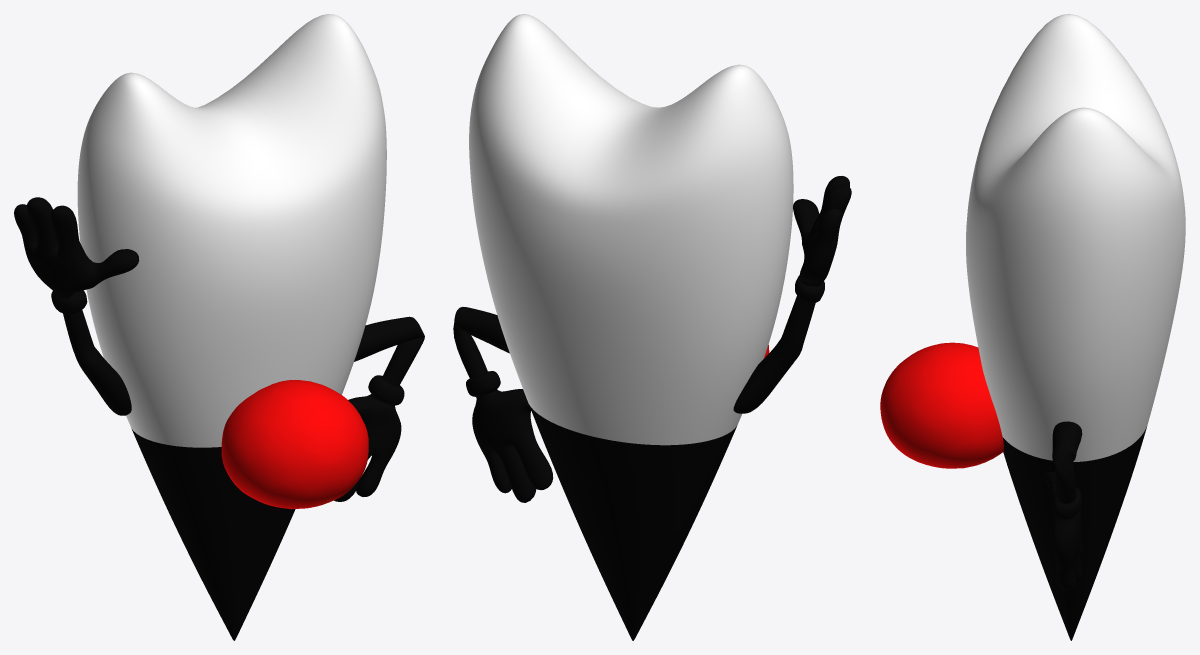
Rendered from dukewave2.obj.
3 renders of one model, left to right at view 1: azimuth 30°, elevation 25°; view 2: azimuth 150°, elevation 25°; view 3: azimuth 270°, elevation 25°, orthographic. The views are drawn at different scales.
Visible parts, largest first — view 1: javadude, javadude_hands, javadude_nase; view 2: javadude, javadude_hands; view 3: javadude, javadude_nase, javadude_hands.
Part boxes in pixels (x1=…): javadude: x1=77, y1=14, x2=386, y2=640; javadude_hands: x1=14, y1=197, x2=424, y2=501; javadude_nase: x1=221, y1=380, x2=368, y2=509; javadude: x1=469, y1=14, x2=793, y2=640; javadude_hands: x1=453, y1=176, x2=851, y2=502; javadude: x1=966, y1=14, x2=1185, y2=640; javadude_nase: x1=880, y1=342, x2=1003, y2=468; javadude_hands: x1=1043, y1=421, x2=1082, y2=590.
Size of the model in its own units: 1.55 by 2.23 by 1.06.
